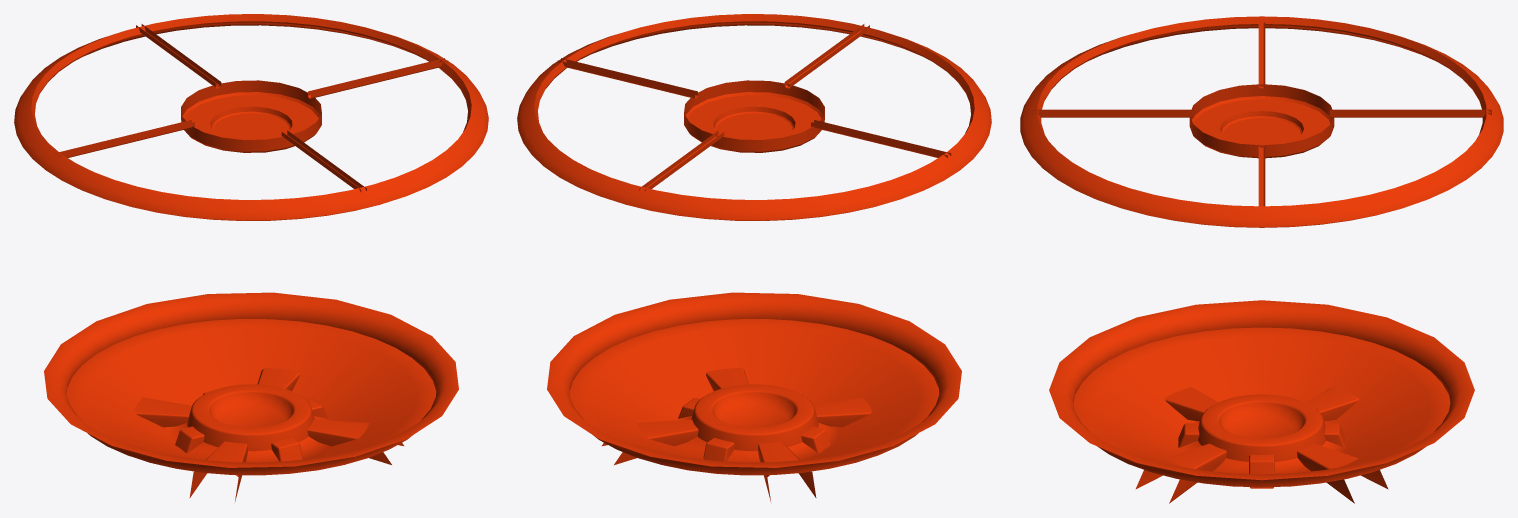
The model's file is SM_Detail.fbx.
3 views of the same model, side by side, from view 1: azimuth 30°, elevation 25°; view 2: azimuth 150°, elevation 25°; view 3: azimuth 270°, elevation 25° (orthographic). The views are drawn at different scales.
Visible parts, largest first — view 1: DomeDetails_low; view 2: DomeDetails_low; view 3: DomeDetails_low.
Boxes of the visible parts, x1,y1,x2,y2 form: DomeDetails_low: (14,14,488,501); DomeDetails_low: (517,14,991,501); DomeDetails_low: (1020,16,1503,503).
Size of the model in its own units: 74.39 by 57.7 by 74.24.
